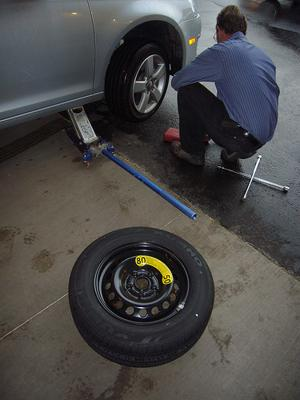person: (170, 3, 280, 175)
